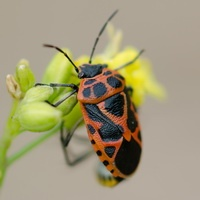insect: (43, 10, 143, 185)
